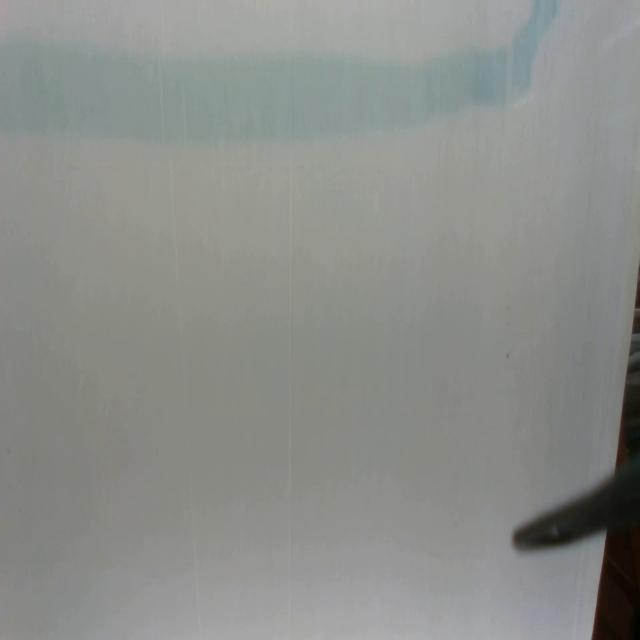color bleeding: (1, 0, 563, 141)
crease: (167, 154, 202, 635), (284, 159, 296, 640)
hole: (505, 350, 511, 365)
